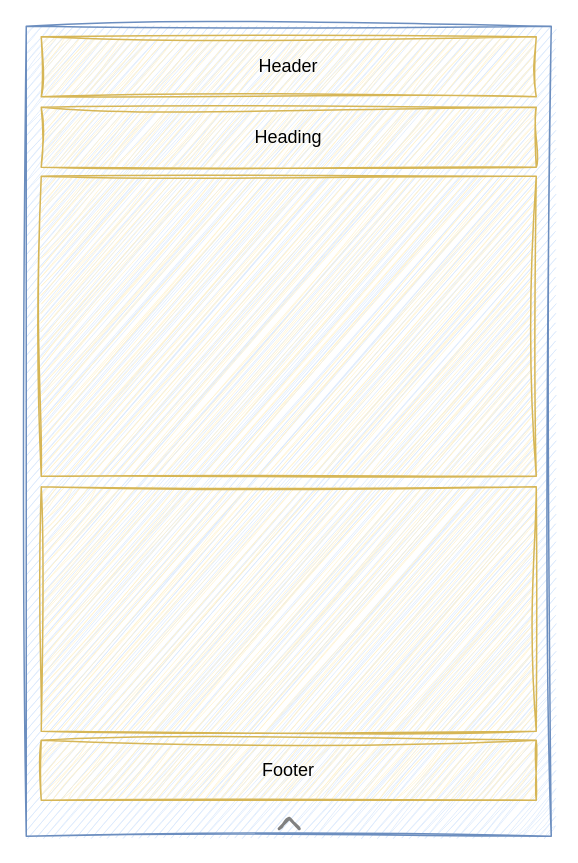
This 578x863 diagram has some shape labels left out. The shapes that lost their labels are listed below. From the top down, each one's centre as x and y in pixels, then its label:
At [288,325]: "Sections".
At [288,608]: "Expandable sections".
